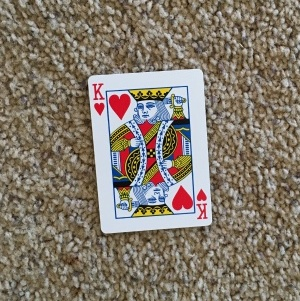card: (84, 68, 215, 233)
